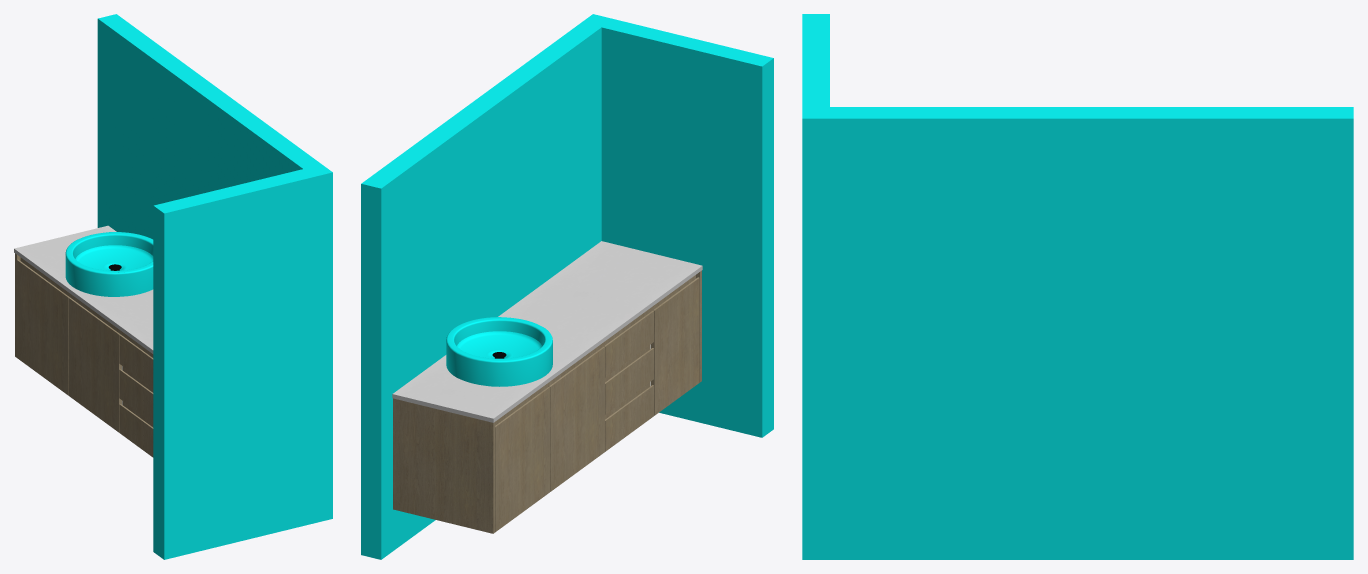
3 renders of one model, left to right at view 1: azimuth 30°, elevation 25°; view 2: azimuth 150°, elevation 25°; view 3: azimuth 270°, elevation 25°, orthographic. The views are drawn at different scales.
Visible parts, largest first — view 1: Wall (×2), Door_RH, Door_LH, Starck 1 Washbowl 044546, Bench_Top, DF_2, DF_1, DF_3, Fingerpull_Rail; view 2: Wall (×2), Bench_Top, Panel, Door_RH (×2), Starck 1 Washbowl 044546, Door_LH, DF_1, DF_2, DF_3, Fingerpull_Rail; view 3: Wall (×2).
Part boxes in pixels (x1,y1,x2,y2): Wall (×2): (97,14,332,559); Door_RH: (68,297,122,432); Door_LH: (17,259,69,394); Starck 1 Washbowl 044546: (65,232,153,296); Bench_Top: (14,225,153,353); DF_2: (119,369,153,422); DF_1: (119,334,153,387); DF_3: (119,404,153,457); Fingerpull_Rail: (20,257,153,357); Wall (×2): (361,14,773,559); Bench_Top: (392,241,702,422); Panel: (393,398,495,533); Door_RH (×2): (549,277,699,491); Starck 1 Washbowl 044546: (446,317,552,386); Door_LH: (495,387,549,531); DF_1: (603,310,653,377); DF_2: (605,348,653,414); DF_3: (605,385,653,451); Fingerpull_Rail: (495,275,695,425); Wall (×2): (802,14,1353,559).
Bounding box in the file's own units: 0.9 × 1.77 × 2.
Materials: 15 (2 with a texture image).
